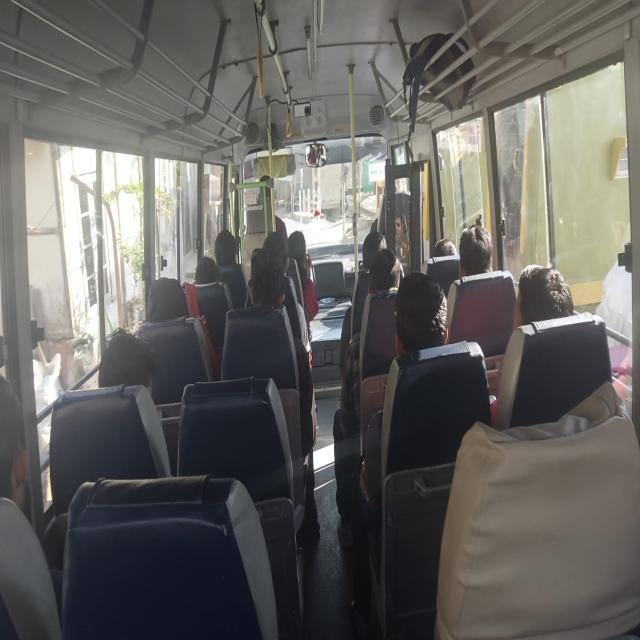person: (350, 270, 450, 635), (244, 246, 320, 536), (334, 246, 404, 548), (0, 373, 61, 639), (488, 263, 574, 426), (97, 327, 172, 476), (338, 231, 388, 375), (262, 231, 313, 369), (446, 224, 494, 339), (394, 271, 448, 355), (98, 327, 157, 398), (0, 373, 30, 511), (513, 264, 574, 330), (287, 229, 319, 332), (214, 228, 246, 309), (146, 276, 189, 322), (459, 224, 493, 277), (368, 248, 404, 294), (362, 231, 387, 272), (194, 255, 219, 284), (394, 214, 409, 261), (433, 238, 457, 256)
